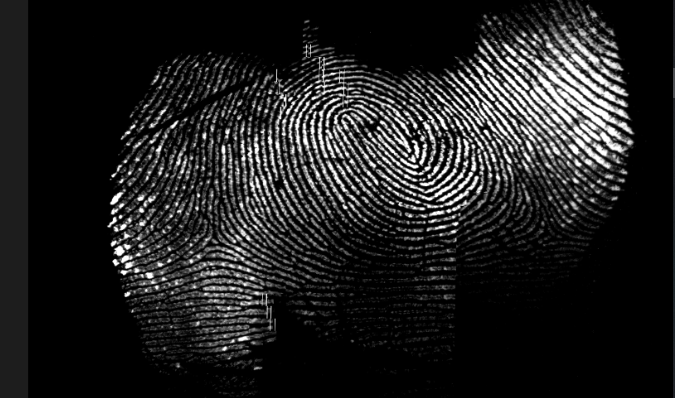deltas: (184, 221, 237, 264), (526, 206, 574, 253)
nucleo: (329, 103, 391, 154)
